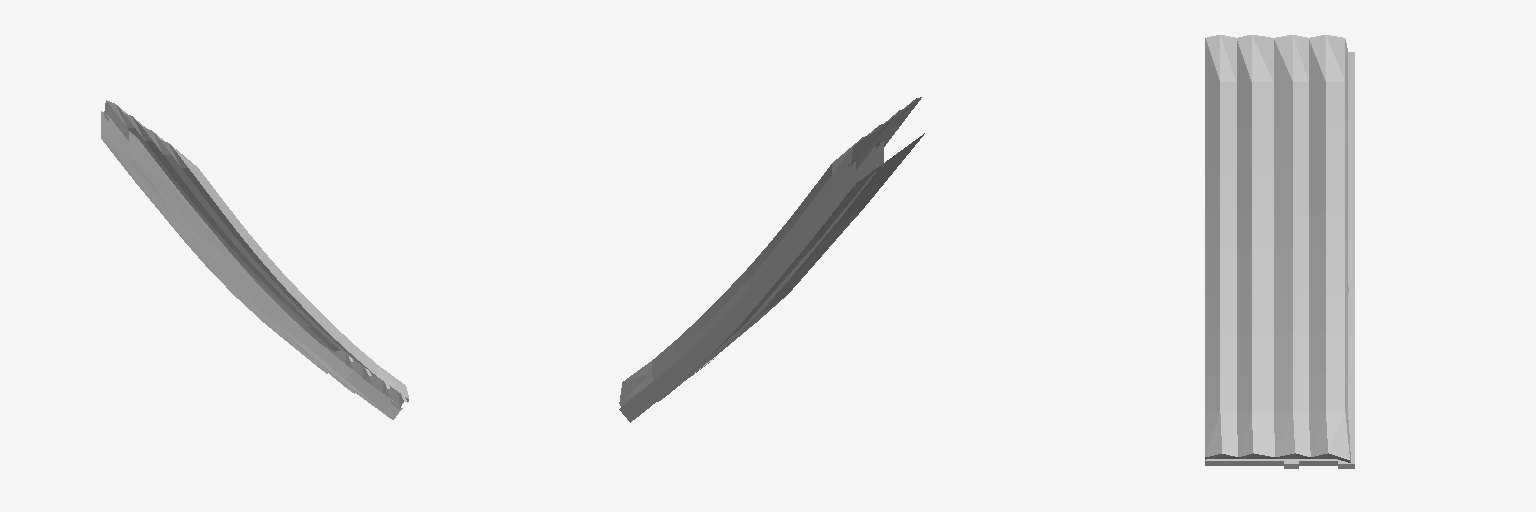
Rendered from Roof_Modular_RoundTiles_6_R_Half.obj.
3 renders of one model, left to right at view 1: azimuth 30°, elevation 25°; view 2: azimuth 150°, elevation 25°; view 3: azimuth 270°, elevation 25°, orthographic.
Visible parts, largest first — view 1: Roof_Modular_RoundTiles_6_R_Half; view 2: Roof_Modular_RoundTiles_6_R_Half; view 3: Roof_Modular_RoundTiles_6_R_Half.
Boxes of the visible parts, box(x1,y1,x2,y2) form: Roof_Modular_RoundTiles_6_R_Half: box(101, 100, 408, 419); Roof_Modular_RoundTiles_6_R_Half: box(619, 97, 924, 422); Roof_Modular_RoundTiles_6_R_Half: box(1205, 35, 1354, 468).
Bounding box in the file's own units: 4.19 × 5.41 × 2.23.